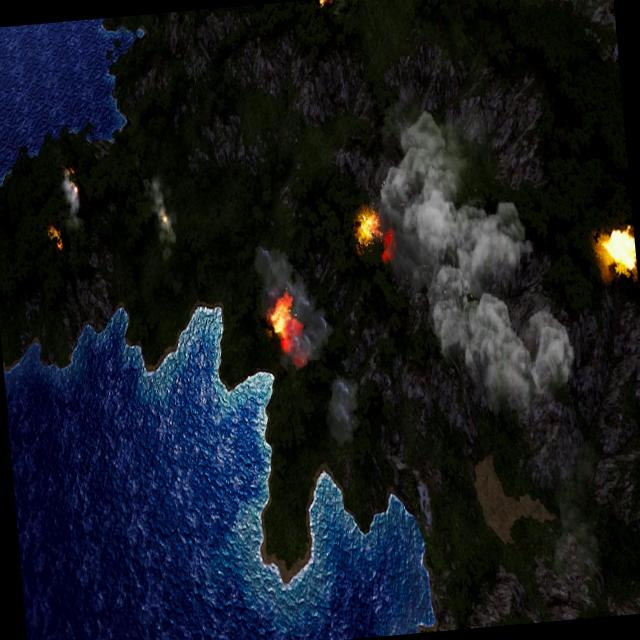fire: (599, 223, 637, 276), (266, 292, 300, 348), (354, 210, 382, 251), (50, 223, 64, 250), (68, 179, 80, 198), (318, 0, 332, 7), (162, 212, 168, 225)
smoke: (370, 96, 581, 421), (254, 237, 335, 373), (143, 174, 176, 260), (324, 374, 364, 444), (59, 173, 83, 234)
